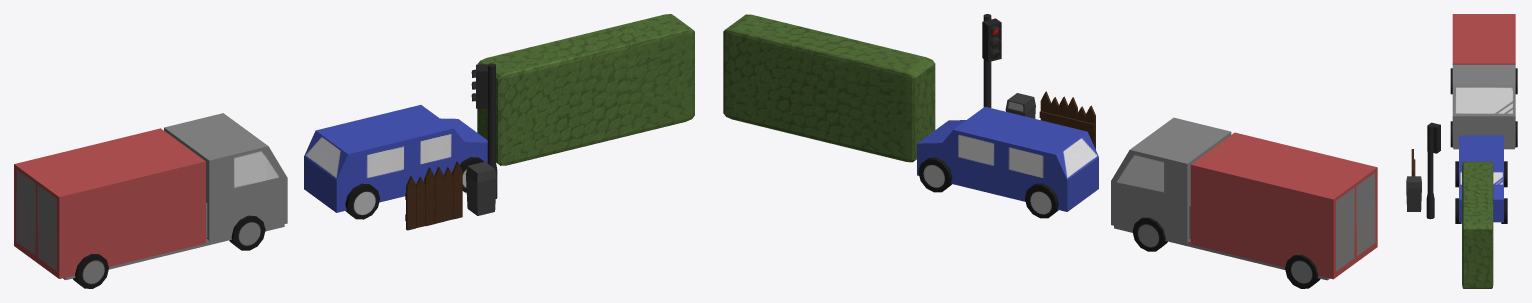
The model's file is Horse Lawyer Clutter.fbx.
The picture shows the model from 3 angles, left to right: view 1: azimuth 30°, elevation 25°; view 2: azimuth 150°, elevation 25°; view 3: azimuth 270°, elevation 25°; orthographic projection. The views are drawn at different scales.
Parts seen in each view (by area): view 1: Truck, Bush, Car, Fence, Traffic light, bin; view 2: Truck, Bush, Car, Fence, Traffic light, bin; view 3: Truck, Bush, Car, Traffic light, bin, Fence.
Part boxes in pixels (x1=…): Truck: x1=14, y1=113, x2=287, y2=288; Bush: x1=477, y1=14, x2=694, y2=165; Car: x1=304, y1=105, x2=487, y2=219; Fence: x1=405, y1=161, x2=462, y2=230; Traffic light: x1=471, y1=63, x2=497, y2=198; bin: x1=465, y1=161, x2=496, y2=215; Truck: x1=1111, y1=117, x2=1377, y2=288; Bush: x1=723, y1=14, x2=935, y2=162; Car: x1=917, y1=106, x2=1098, y2=218; Fence: x1=1039, y1=91, x2=1095, y2=149; Traffic light: x1=982, y1=14, x2=1001, y2=107; bin: x1=1005, y1=93, x2=1035, y2=118; Truck: x1=1450, y1=14, x2=1517, y2=149; Bush: x1=1462, y1=161, x2=1493, y2=288; Car: x1=1455, y1=135, x2=1507, y2=223; Traffic light: x1=1426, y1=122, x2=1440, y2=219; bin: x1=1406, y1=176, x2=1421, y2=211; Fence: x1=1411, y1=149, x2=1415, y2=176.
Bounding box in the file's own units: 32.97 × 6.89 × 7.14.
